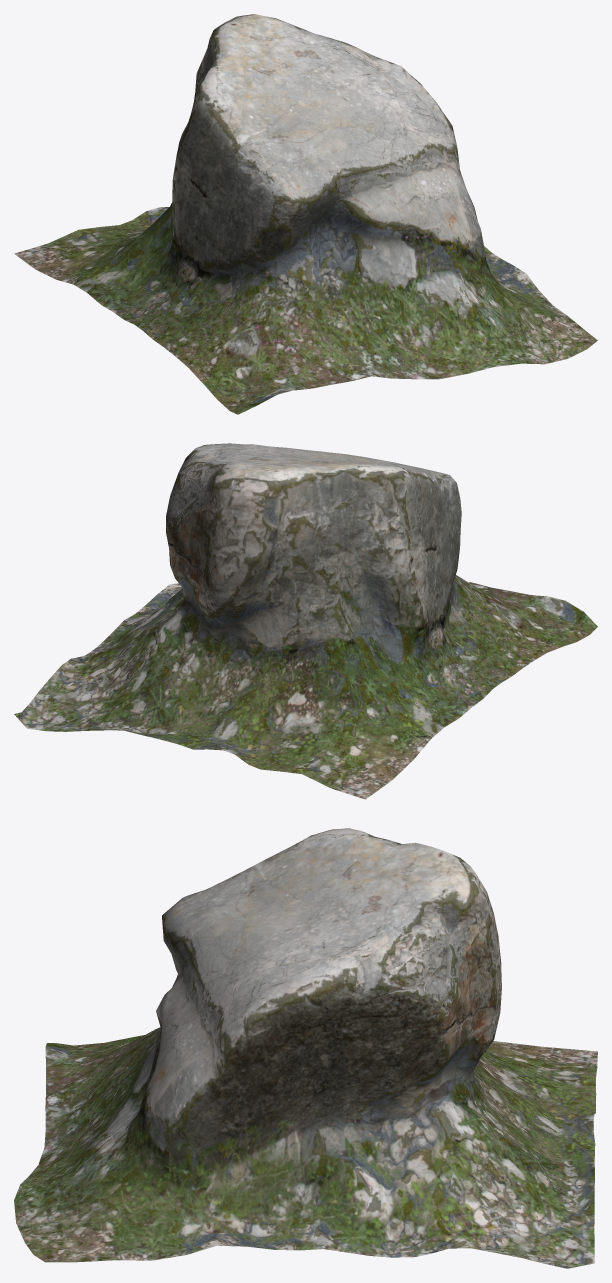
The model's file is Prop_Nature_Stone_x3.fbx.
3 views of the same model, one above another, from view 1: azimuth 30°, elevation 25°; view 2: azimuth 150°, elevation 25°; view 3: azimuth 270°, elevation 25° (orthographic). The views are drawn at different scales.
Visible parts, largest first — view 1: Prop_Nature_Stone_x3; view 2: Prop_Nature_Stone_x3; view 3: Prop_Nature_Stone_x3.
Part boxes in pixels (x1,y1,x2,y2): Prop_Nature_Stone_x3: [14, 14, 597, 414]; Prop_Nature_Stone_x3: [14, 443, 597, 799]; Prop_Nature_Stone_x3: [14, 828, 597, 1268].
Size of the model in its own units: 191 by 130 by 227.
